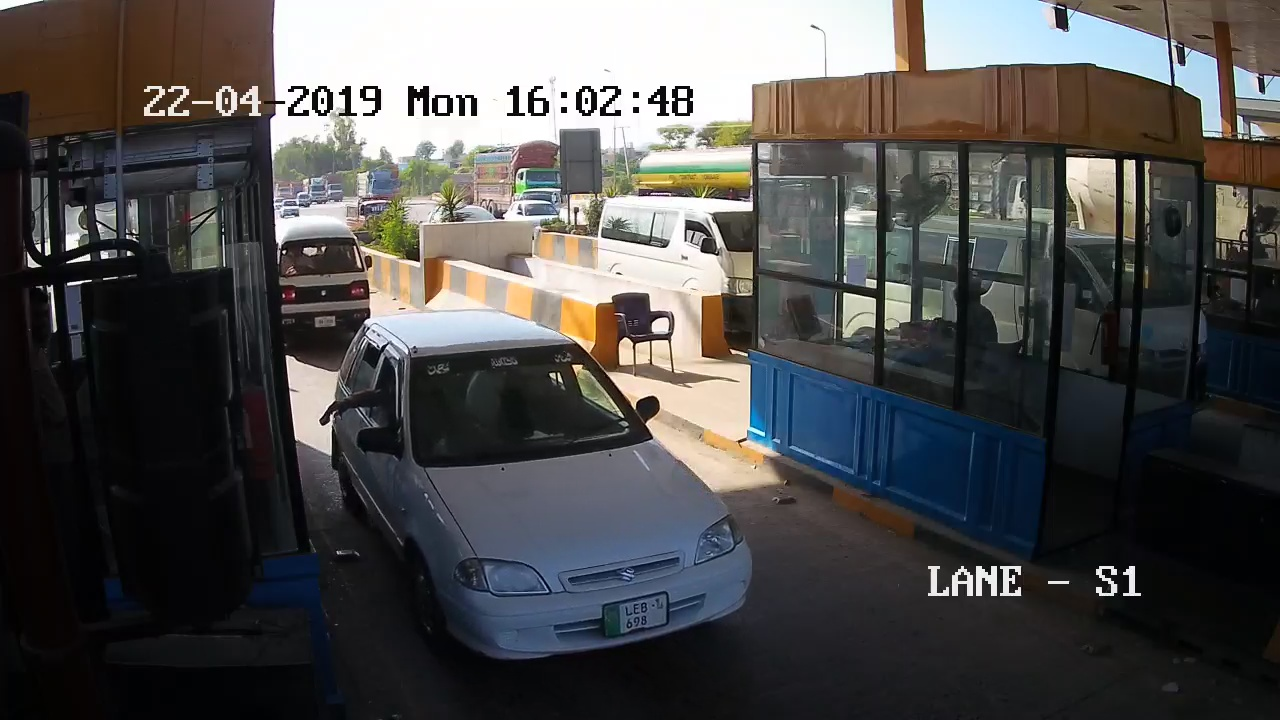Number Plate (Car): (600, 591, 668, 637)
